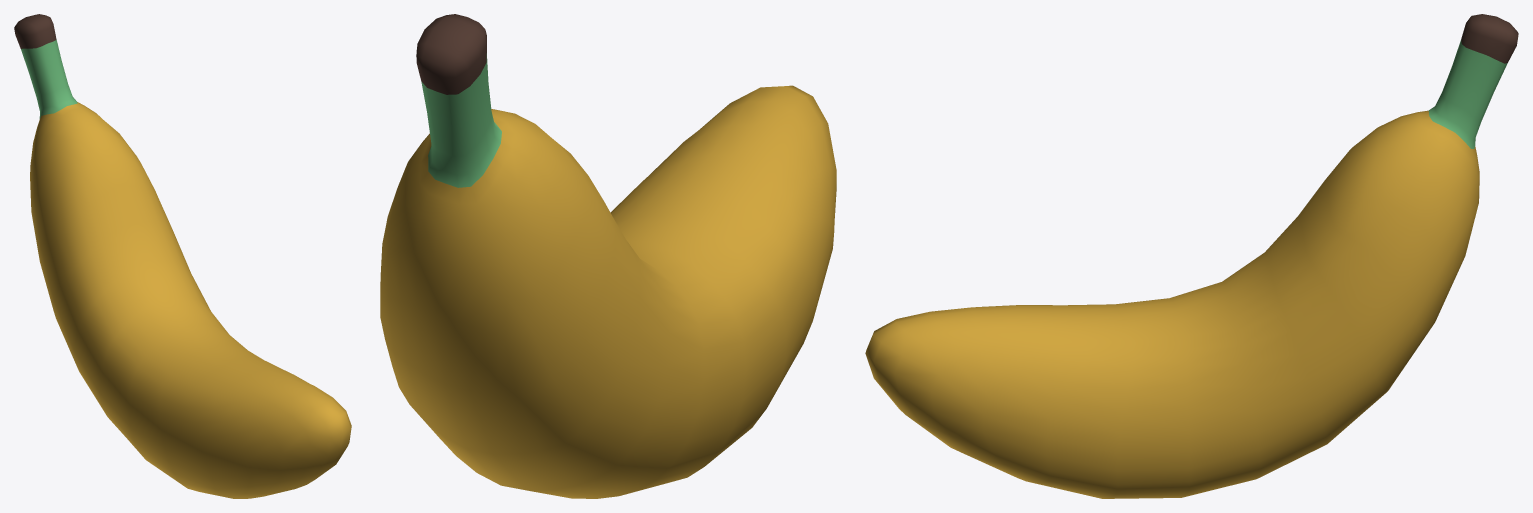
Rendered from Banana_02.dae.
The picture shows the model from 3 angles, left to right: view 1: azimuth 30°, elevation 25°; view 2: azimuth 150°, elevation 25°; view 3: azimuth 270°, elevation 25°; orthographic projection. The views are drawn at different scales.
Visible parts, largest first — view 1: Banana_02_LOD0; view 2: Banana_02_LOD0; view 3: Banana_02_LOD0.
Boxes of the visible parts, bbox=[...] form: Banana_02_LOD0: bbox=[14, 14, 351, 498]; Banana_02_LOD0: bbox=[380, 14, 836, 498]; Banana_02_LOD0: bbox=[865, 14, 1518, 498].
Size of what is drawn, in the model's own units: 1.89 by 6.41 by 4.88.
